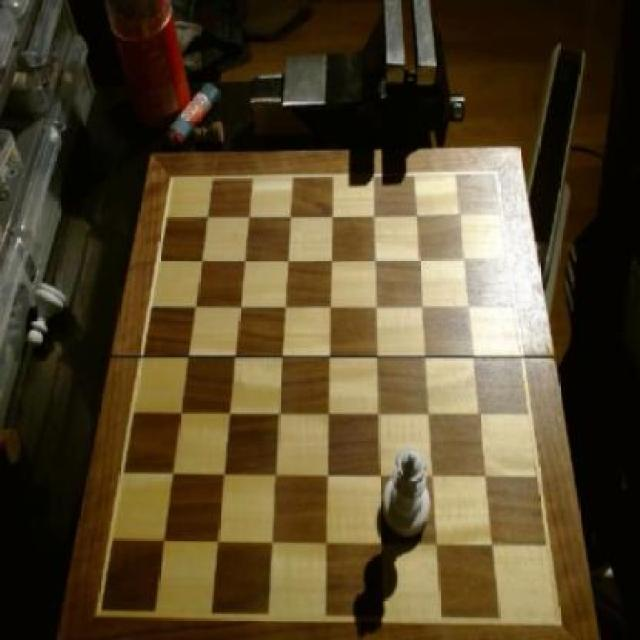white-pawn: (381, 445, 437, 543)
